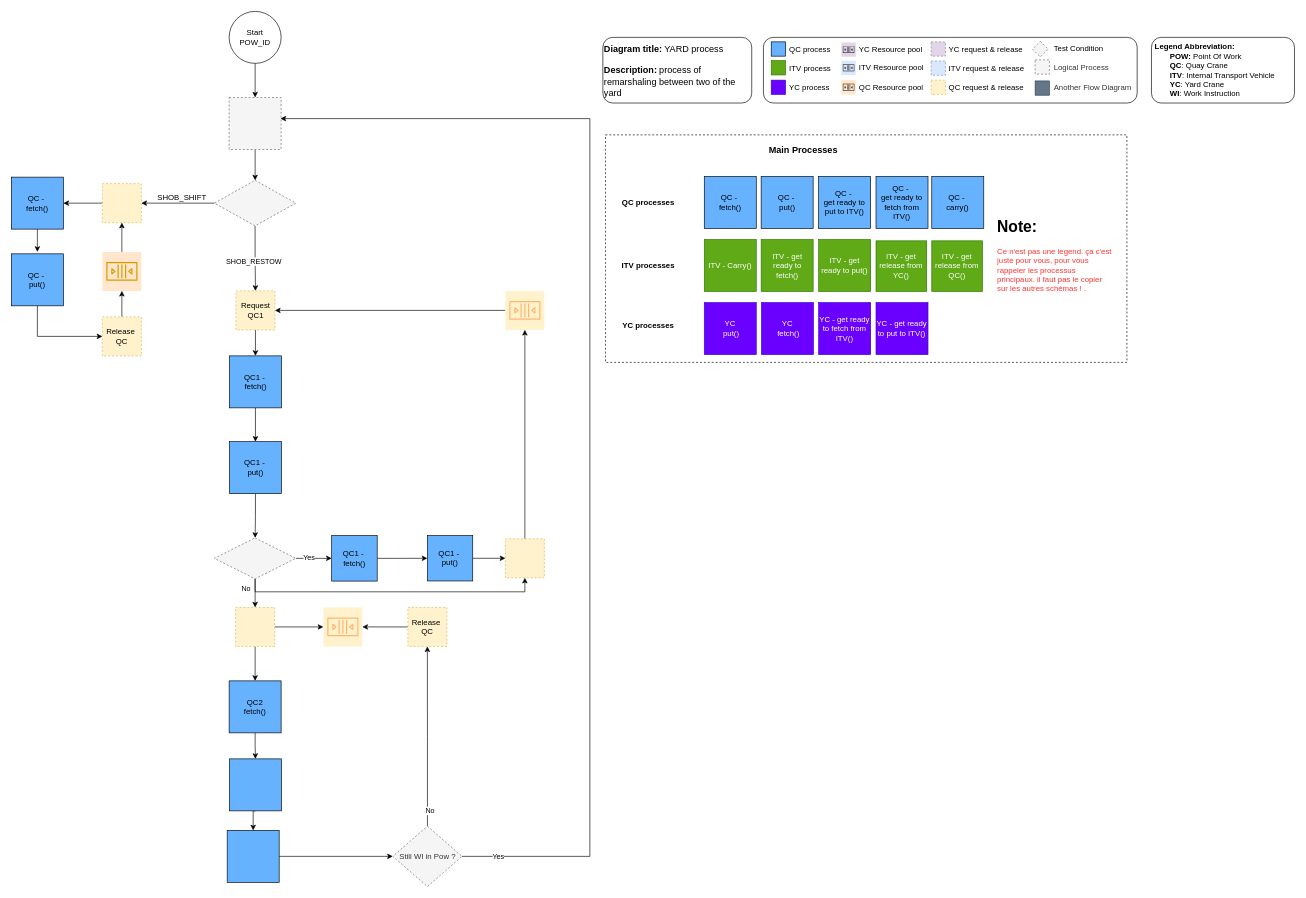
This 1306x898 diagram has some shape labels left out. The shapes that lost their labels are listed below. From the top down, each one's centre as x and y in pixels, then its label:
point (254, 123): Select WI
point (121, 203): Request QC
point (255, 203): Move kind ?
point (121, 271): QC Pool IDLE
point (524, 310): QC1 Pool IDLE
point (255, 558): Keep the QC1 ?
point (524, 558): Release QC1
point (255, 626): Request QC2
point (342, 626): QC2 Pool IDLE
point (255, 784): QC2 - carry()
point (253, 856): QC2 - put()
